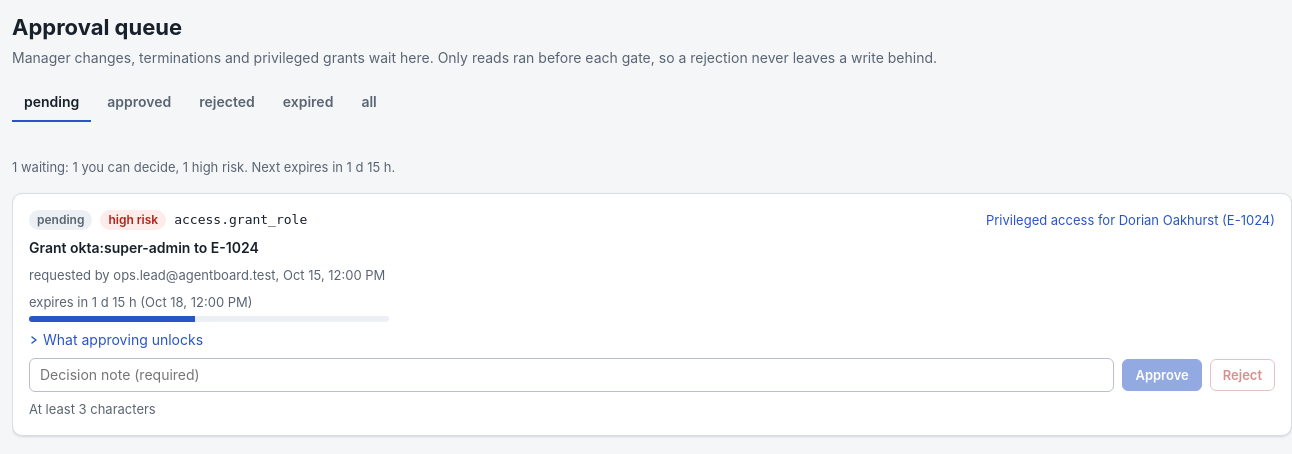
Test case: Approvals decisions › announces a rejection and moves focus to the status line when no card is left
The image size is (1292, 454).
In the field labelled "Decision note": (572, 375) left=29, top=358, right=1114, bottom=392, type "Rejected: no business justification."
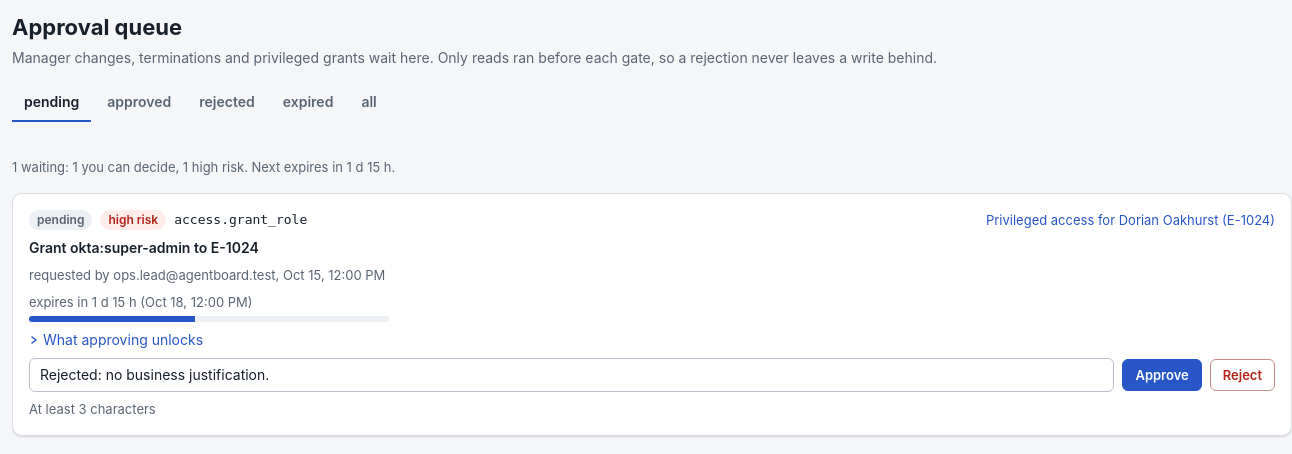
Click the button "Reject": (1242, 375) left=1210, top=359, right=1275, bottom=391
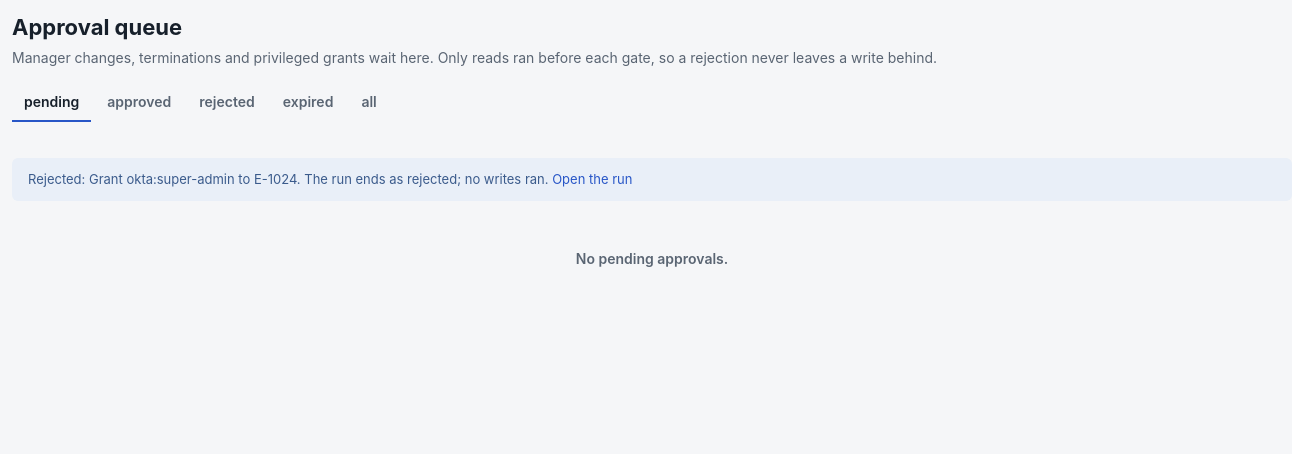
Expected: the message with test id "decision-status" shows "Rejected: Grant okta:super-admin to E-1024. The run ends as rejected; no writes ran.", left=28, top=172, right=548, bottom=188
Expected: the text "No pending approvals." is shown, left=576, top=250, right=728, bottom=267
